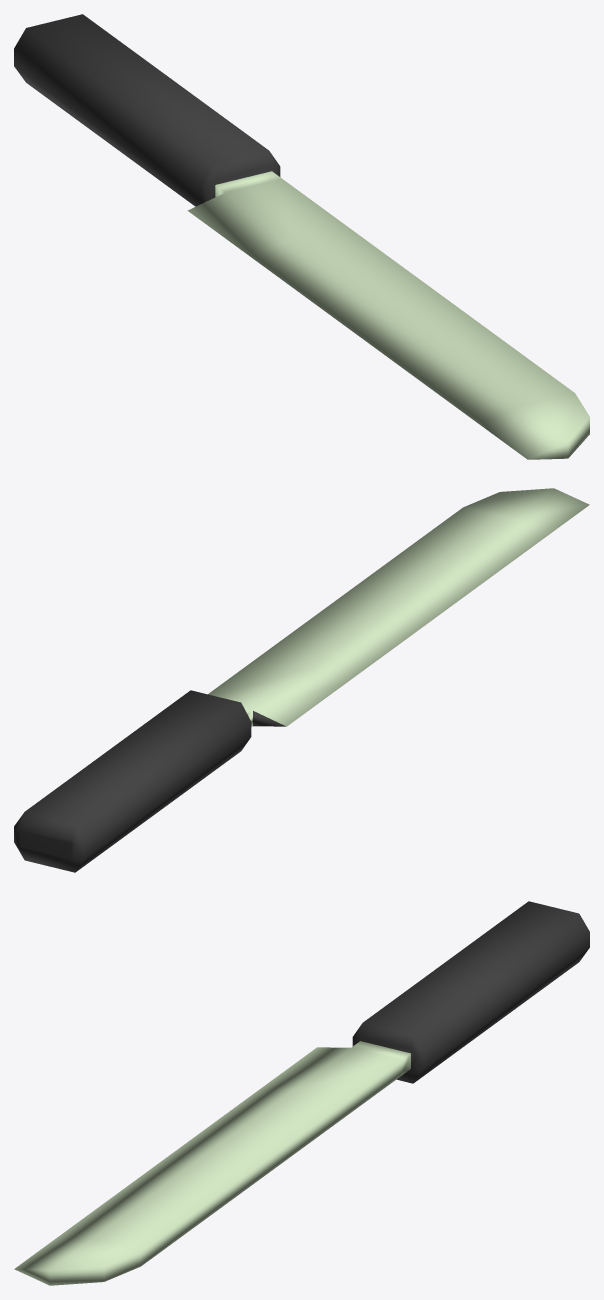
File: knife_3.fbx
The picture shows the model from 3 angles, top to bottom: view 1: azimuth 30°, elevation 25°; view 2: azimuth 150°, elevation 25°; view 3: azimuth 330°, elevation 25°; orthographic projection. The views are drawn at different scales.
Parts seen in each view (by area): view 1: knife_3; view 2: knife_3; view 3: knife_3.
Boxes of the visible parts, x1,y1,x2,y2 form: knife_3: (14,14,589,459); knife_3: (14,488,589,872); knife_3: (14,901,589,1285).
Bounding box in the file's own units: 0.0272 × 0.0134 × 0.2424.
